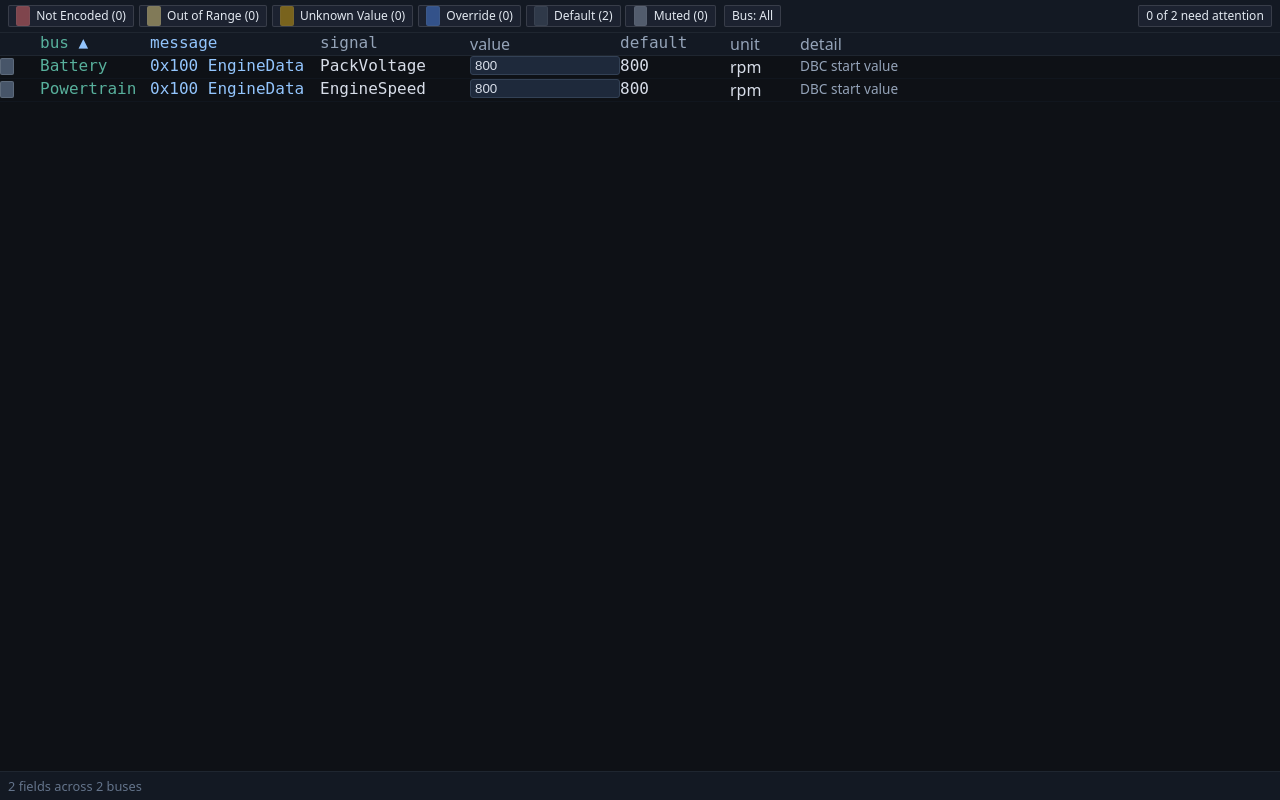
Test: RbsSignalsPanel › filters by bus through the fly-out
Expected: the text "EngineSpeed" is shown, [320,79,426,98]
Click the button "Bus: All": (753, 16) [724,5,781,27]
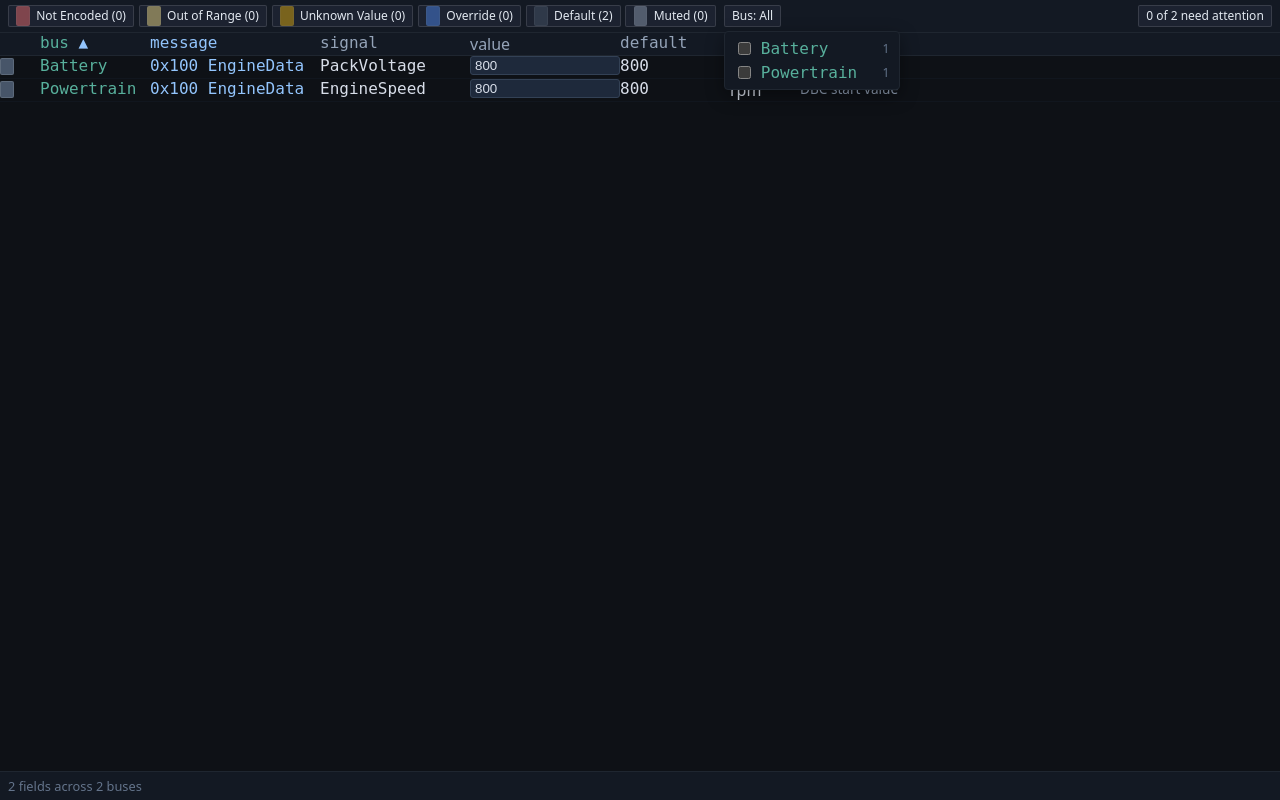
Click the checkbox labelled "Battery": (745, 48) [738,42,751,55]
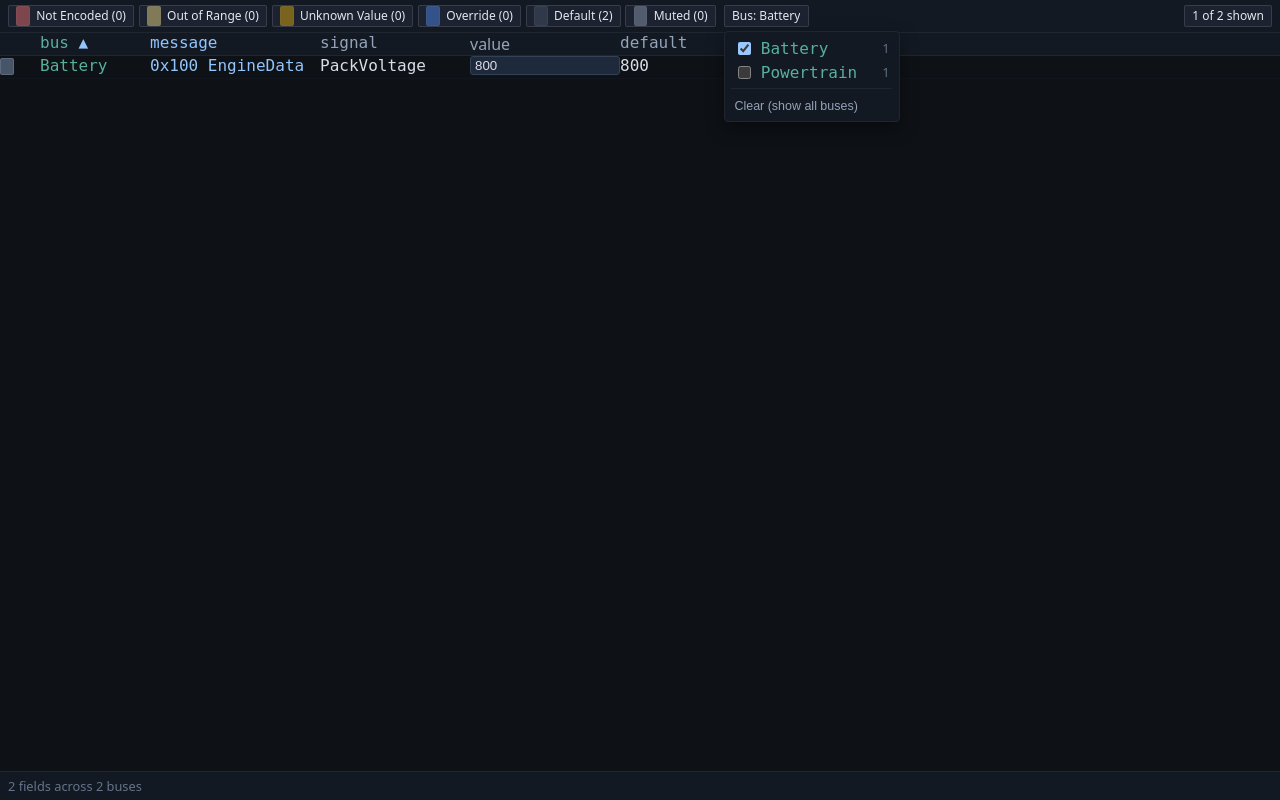
Expected: the text "PackVoltage" is shown, [320,56,426,75]
Expected: the text "EngineSpeed" is gone
